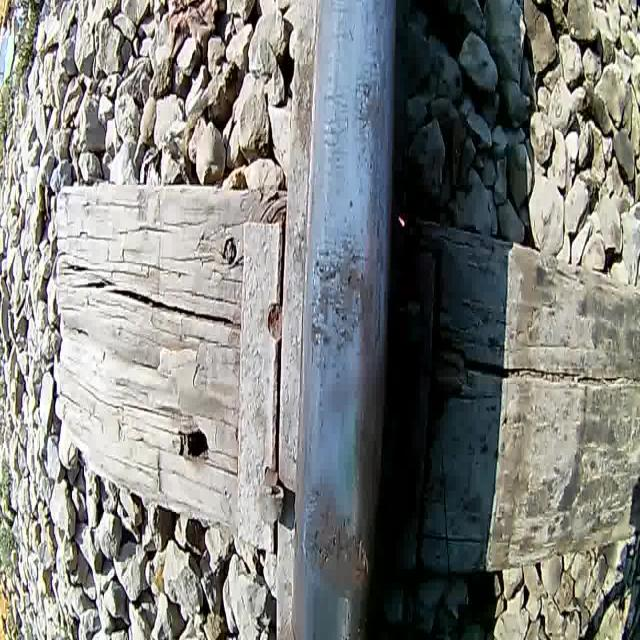Squats: (296, 467, 372, 608), (304, 236, 378, 362), (351, 49, 394, 161)
